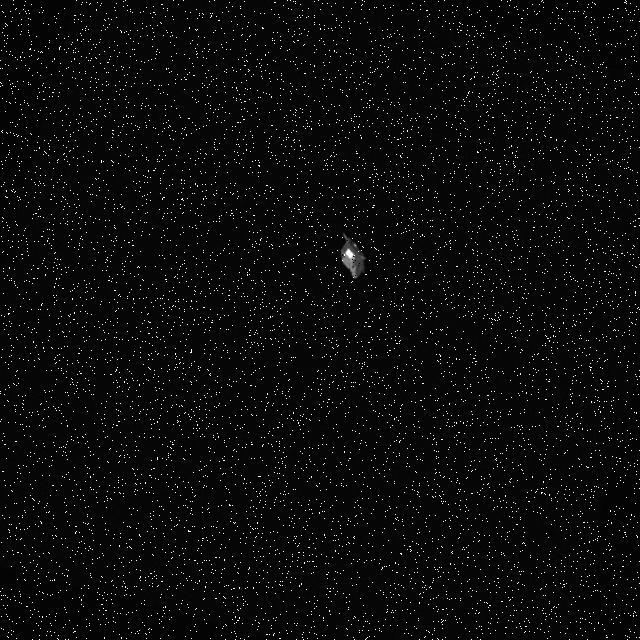medium_debris: (324, 226, 398, 290)
